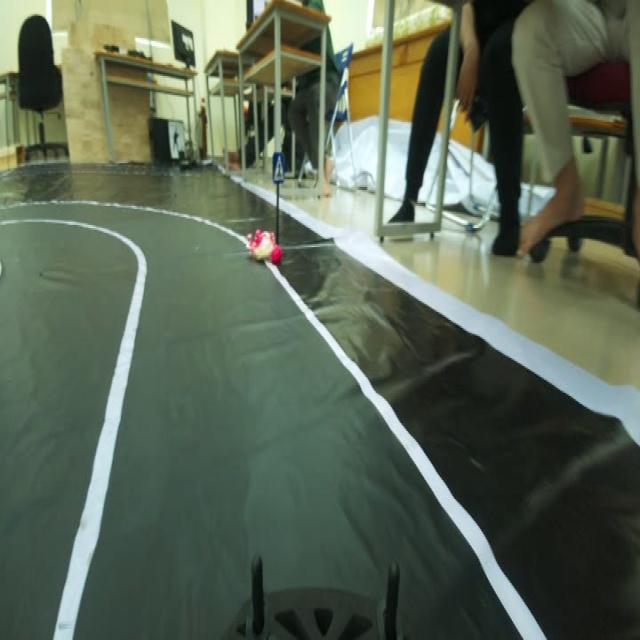crosswalk: (266, 147, 291, 192)
